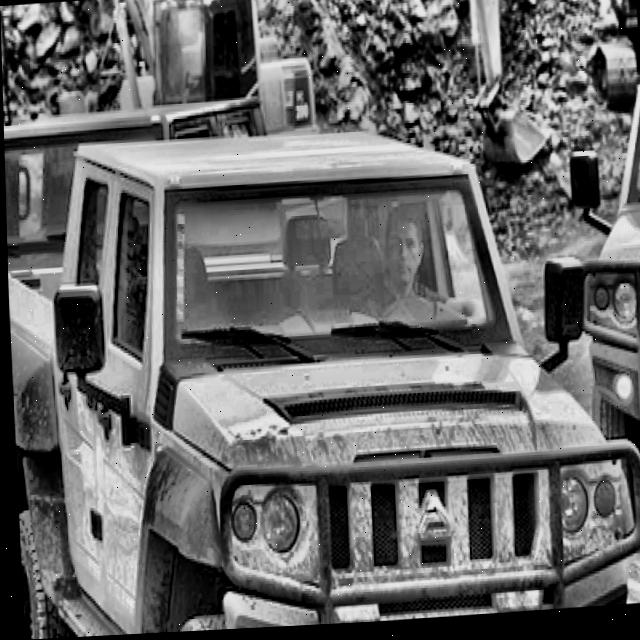excavator: (415, 0, 640, 231)
light_vehicle: (3, 102, 630, 640), (540, 21, 640, 574), (3, 104, 113, 580)
